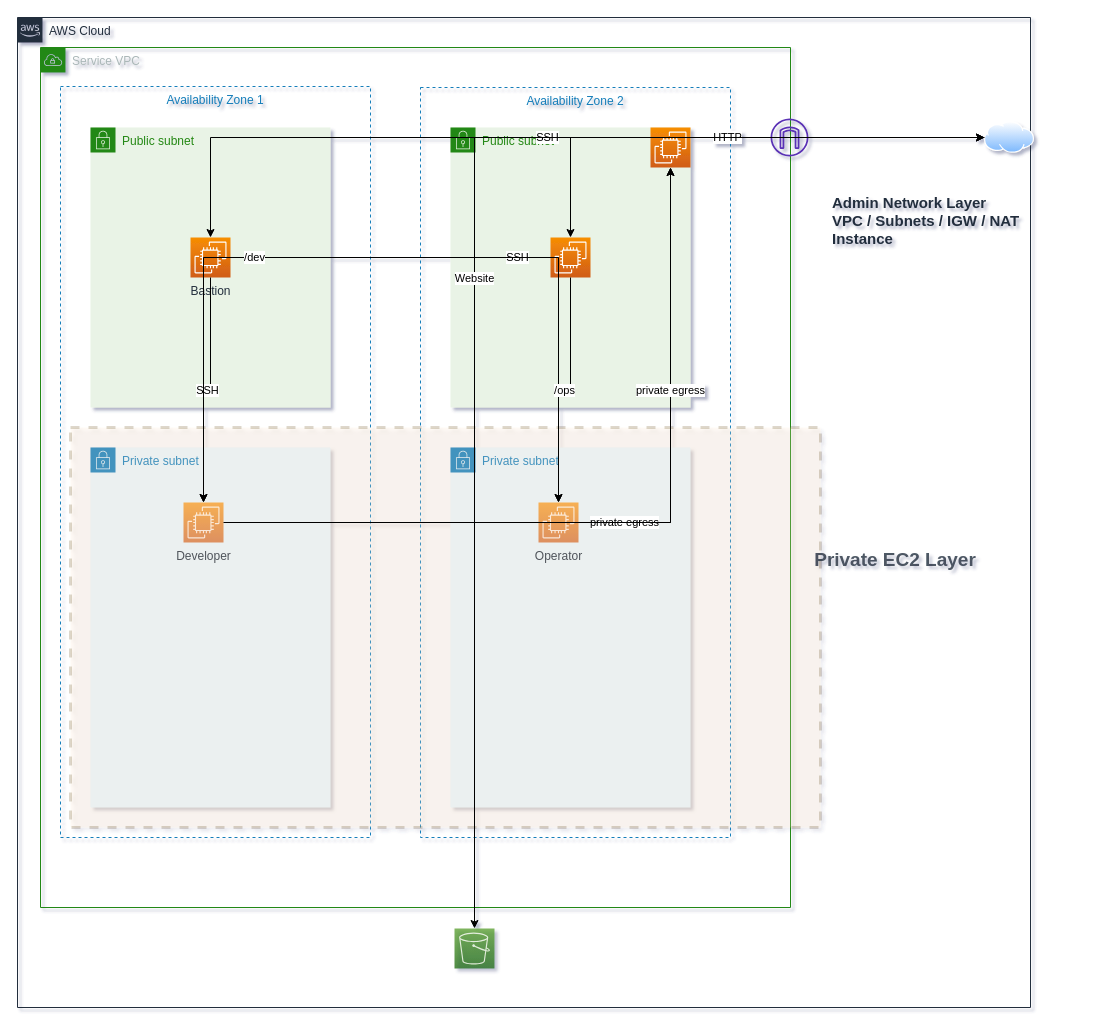
Some shapes in this 1094 by 1031 pixel diagram are drawn without their labels. Here are the shapes that lost their labels. From the top down, the centre of each, then its label:
pixel 670 147: NAT Instance
pixel 789 137: Internet Gateway
pixel 570 257: Proxy (Nginx)
pixel 445 627: Steps 1-6 admin + member apply SSH / Proxy / Frontend routing test
pixel 474 948: Frontend S3 Website
